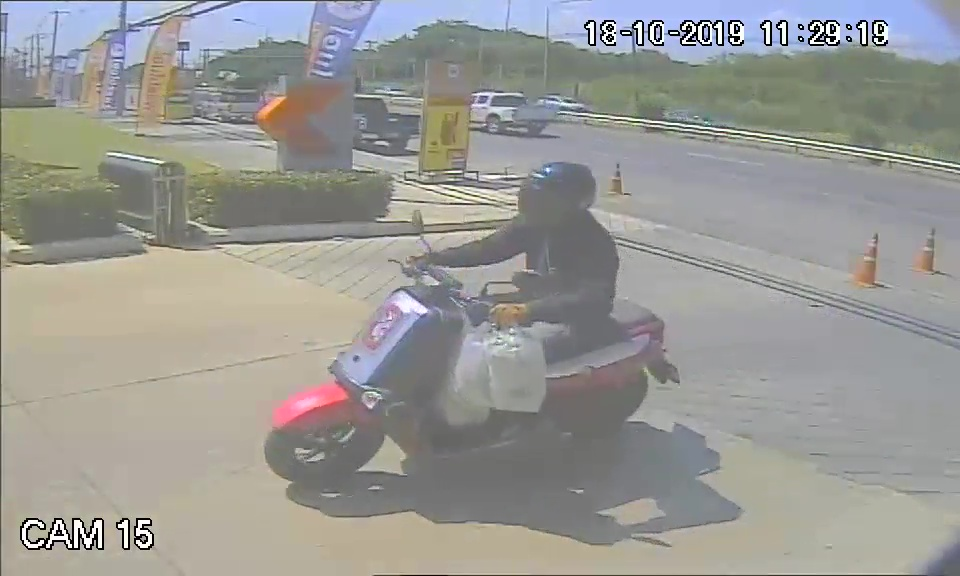motorcycle: (260, 269, 683, 488)
